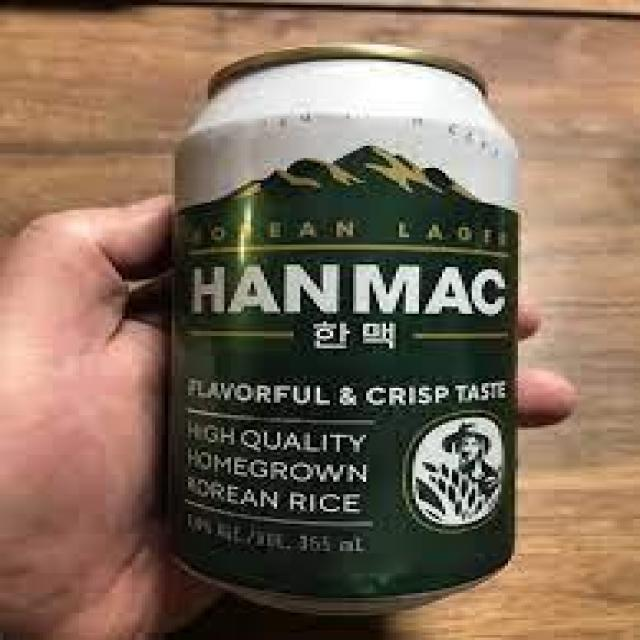beer-can: (160, 36, 523, 622)
